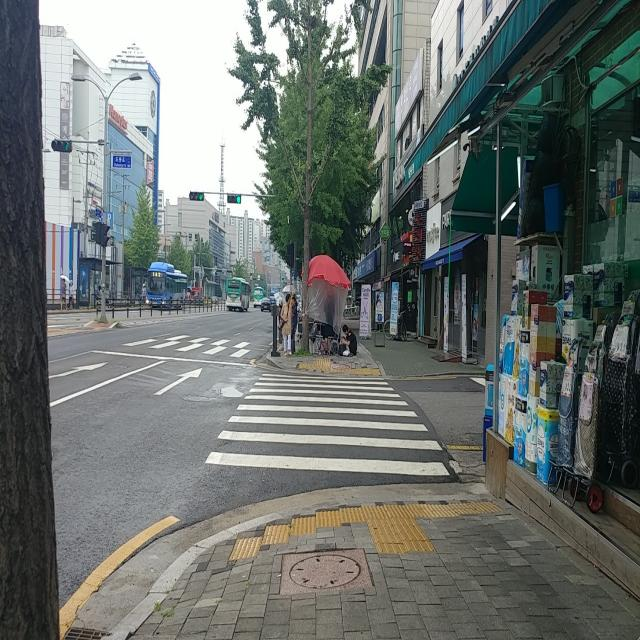횡단보도: (203, 373, 451, 477), (121, 332, 263, 360)
